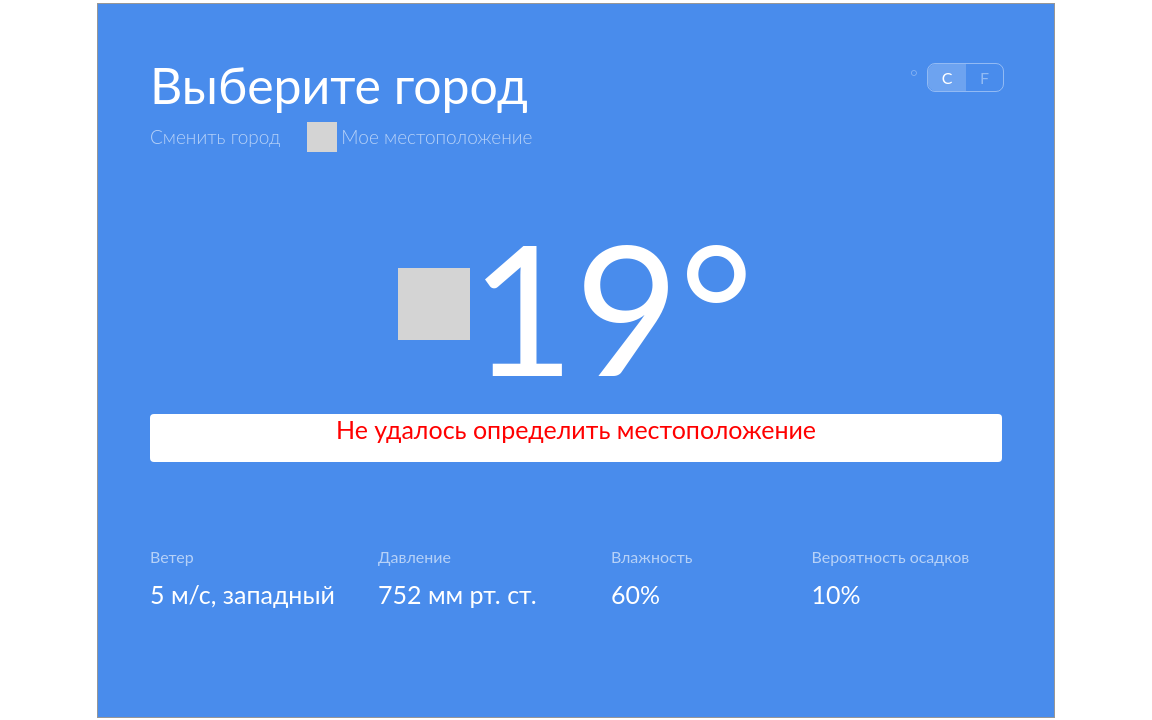
Test: App. Check buttons. › check right working "Choose city" button
The width and height of the screenshot is (1152, 720).
expect the text "Выберите город" is shown: met, box x1=150 y1=55 x2=528 y2=115
expect the element with test id "measure-block" is shown: met, box x1=910 y1=63 x2=1004 y2=92
Click the button with test id "change-city-btn" at (215, 137), box x1=150 y1=126 x2=280 y2=148
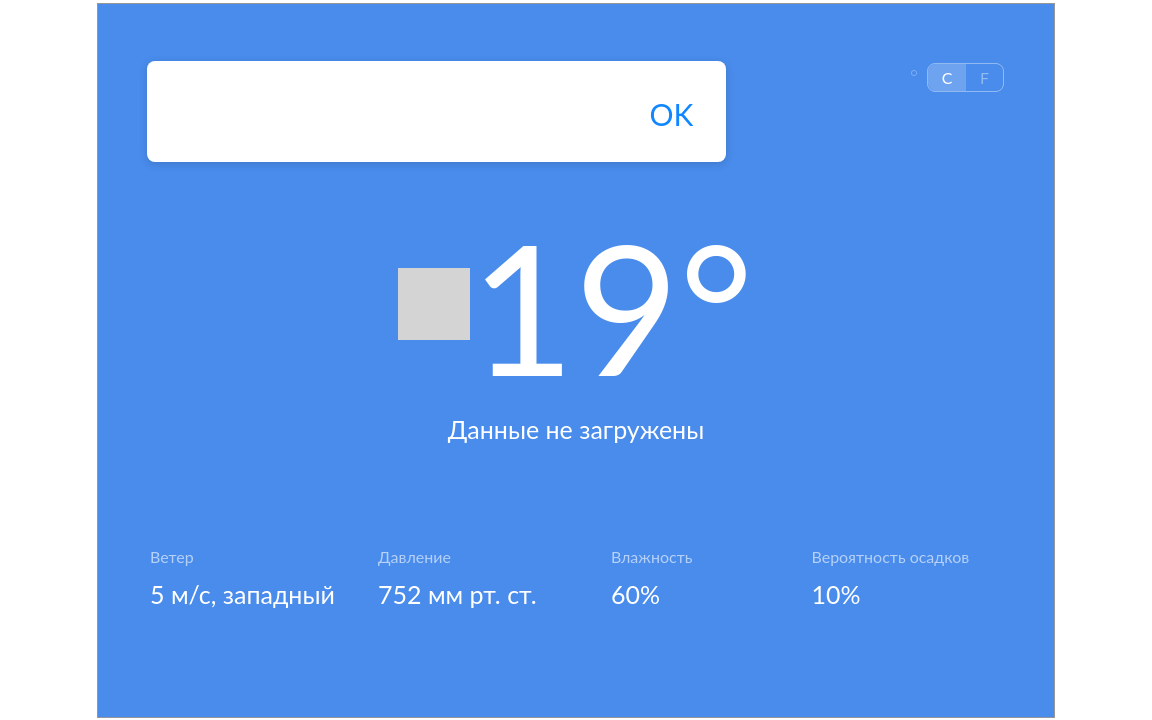
expect the element with test id "measure-block" is shown: met, box x1=910 y1=63 x2=1004 y2=92
expect the text "Выберите город" is gone: met
expect the element with test id "city-selection" is shown: met, box x1=150 y1=55 x2=1002 y2=181
Press Esc
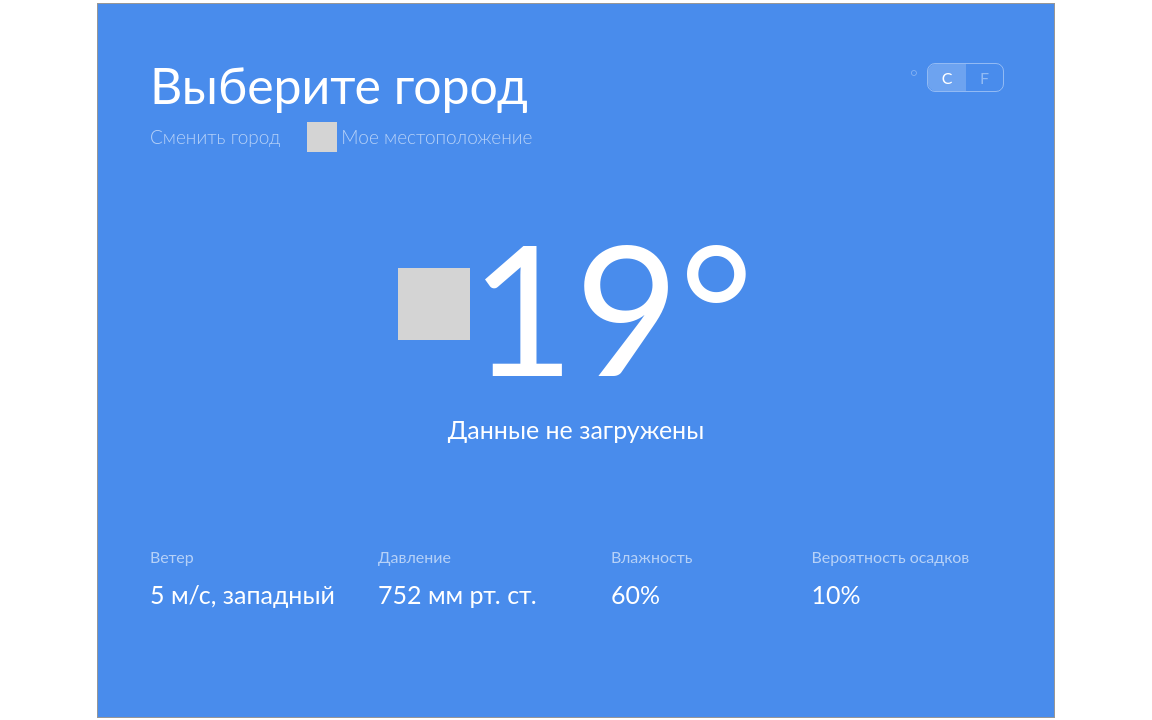
expect the element with test id "measure-block" is shown: met, box x1=910 y1=63 x2=1004 y2=92
expect the text "Выберите город" is shown: met, box x1=150 y1=55 x2=528 y2=115
expect the element with test id "city-selection" is gone: met
